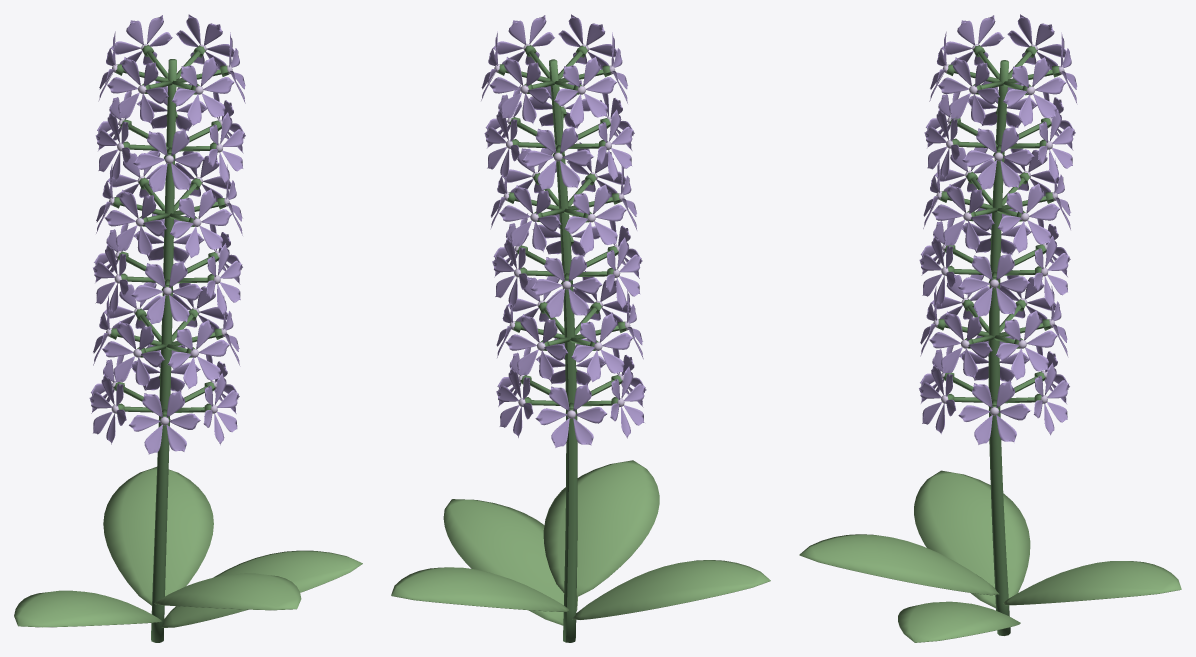
File: hyacinth-legendary-v2.glb
3 renders of one model, left to right at view 1: azimuth 30°, elevation 25°; view 2: azimuth 150°, elevation 25°; view 3: azimuth 270°, elevation 25°, orthographic.
Parts seen in each view (by area): view 1: hyacinth-legendary-v2-petal, hyacinth-legendary-v2-leaf, hyacinth-legendary-v2-stem, hyacinth-legendary-v2-center; view 2: hyacinth-legendary-v2-petal, hyacinth-legendary-v2-leaf, hyacinth-legendary-v2-stem, hyacinth-legendary-v2-center; view 3: hyacinth-legendary-v2-petal, hyacinth-legendary-v2-leaf, hyacinth-legendary-v2-stem, hyacinth-legendary-v2-center.
Part boxes in pixels (x1,y1,x2,y2): hyacinth-legendary-v2-petal: (89, 14, 245, 454); hyacinth-legendary-v2-leaf: (14, 467, 362, 627); hyacinth-legendary-v2-stem: (109, 45, 228, 642); hyacinth-legendary-v2-center: (106, 44, 232, 425); hyacinth-legendary-v2-petal: (481, 14, 646, 447); hyacinth-legendary-v2-leaf: (391, 460, 770, 625); hyacinth-legendary-v2-stem: (497, 45, 626, 642); hyacinth-legendary-v2-center: (494, 44, 630, 418); hyacinth-legendary-v2-petal: (919, 14, 1077, 444); hyacinth-legendary-v2-leaf: (799, 470, 1181, 642); hyacinth-legendary-v2-stem: (937, 45, 1060, 635); hyacinth-legendary-v2-center: (933, 44, 1064, 415).
Bounding box in the file's own units: 0.9719 × 1.67 × 0.9635.
